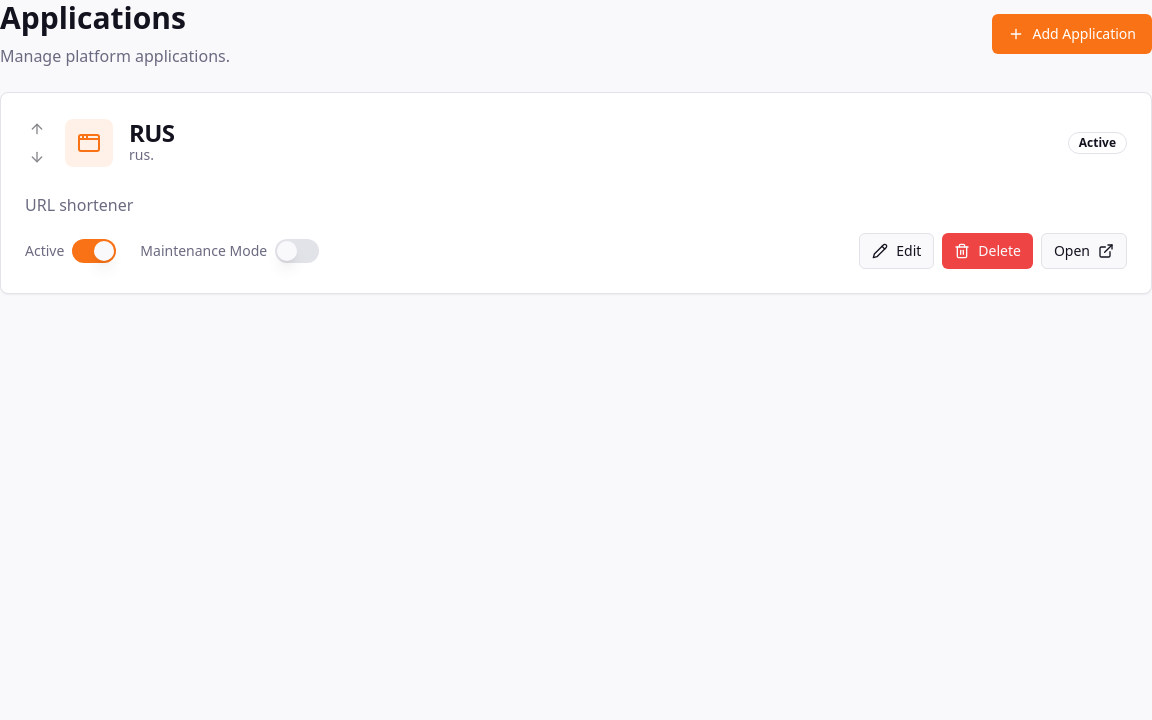
Test: AdminApplicationsPage › validates forgejo fields are all-or-nothing
Click the button "Edit": click(897, 251) [859, 233, 934, 269]
(page scrolled)
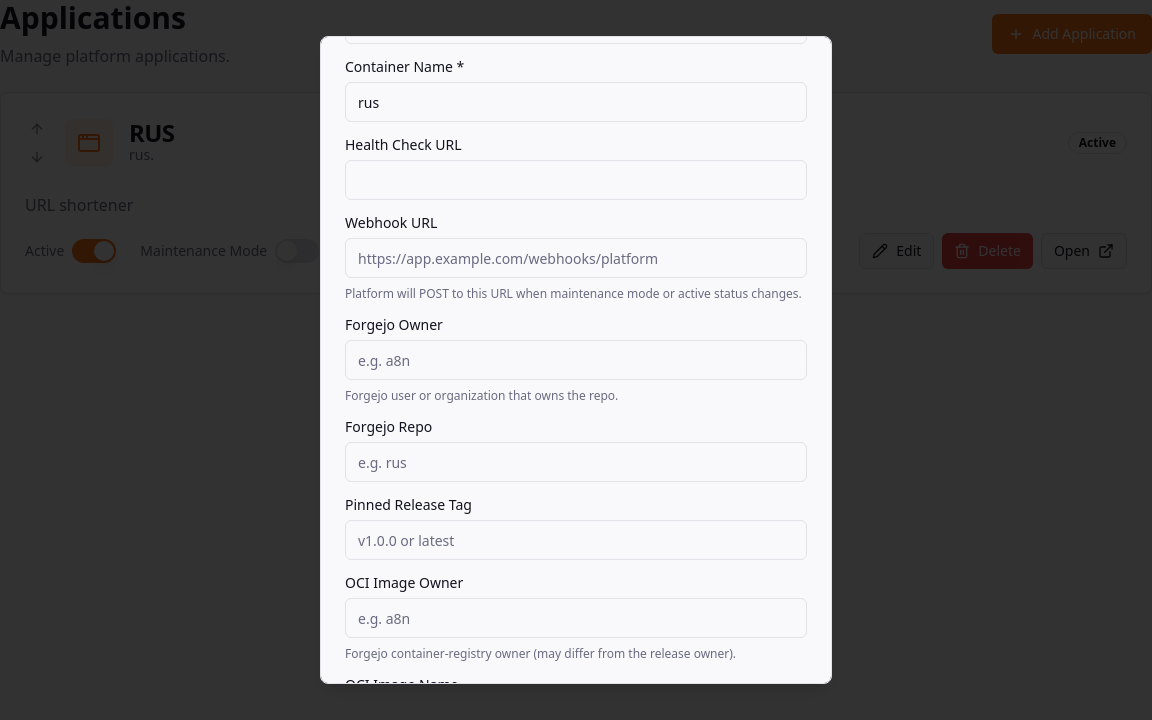
In the field labelled "Forgejo Owner": (576, 360) [345, 340, 807, 380], type "myorg"
(page scrolled)
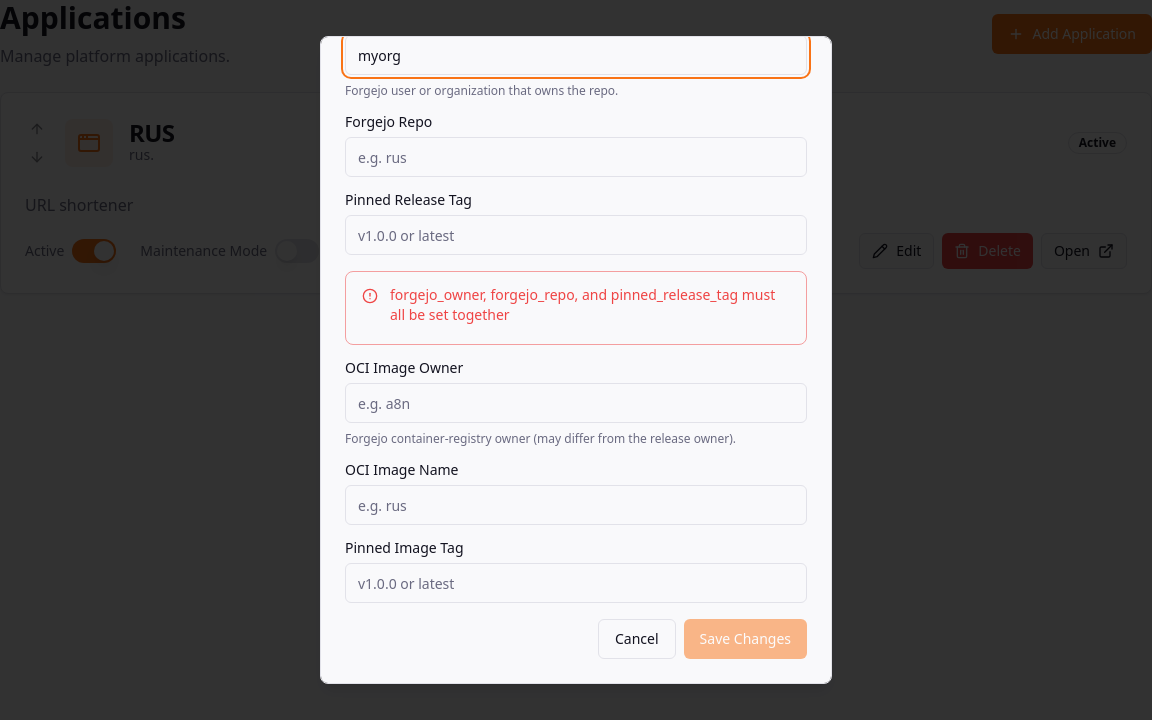
Expected: the text "forgejo_owner, forgejo_repo, and pinned_release_tag must all be set together" is shown, [362, 285, 790, 325]
Expected: the button "Save Changes" is disabled, [684, 619, 807, 659]
